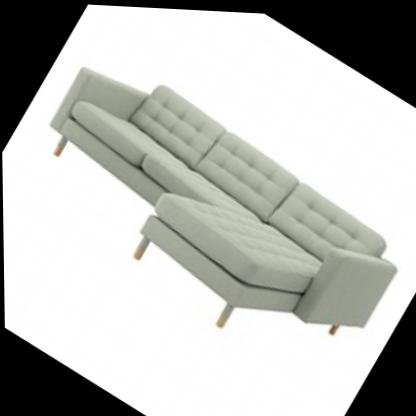Sofa: (0, 23, 416, 401)
